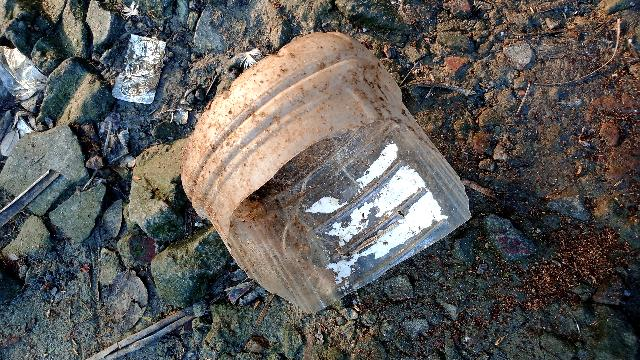bottle: (160, 14, 473, 337)
